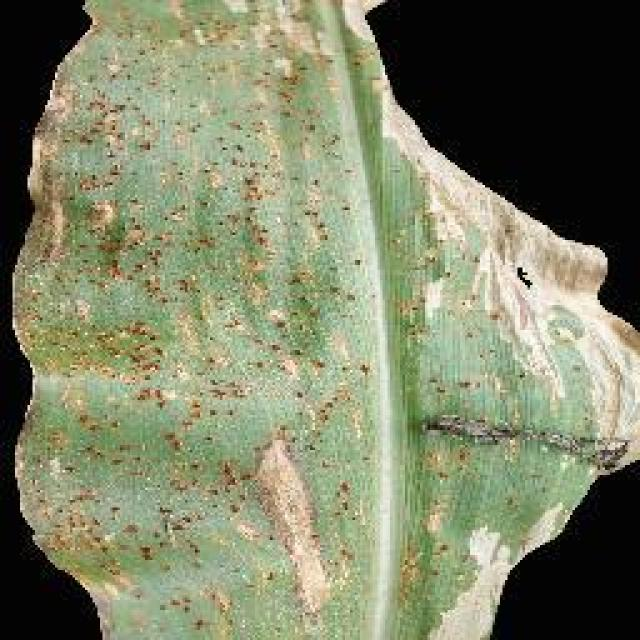Corn Common Rust: (7, 22, 585, 620)
